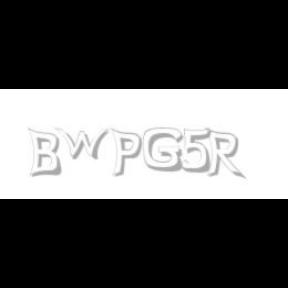5: (180, 128, 212, 174)
B: (27, 128, 61, 178)
G: (143, 128, 183, 172)
P: (110, 128, 142, 178)
R: (205, 128, 243, 180)
w: (55, 128, 114, 160)
